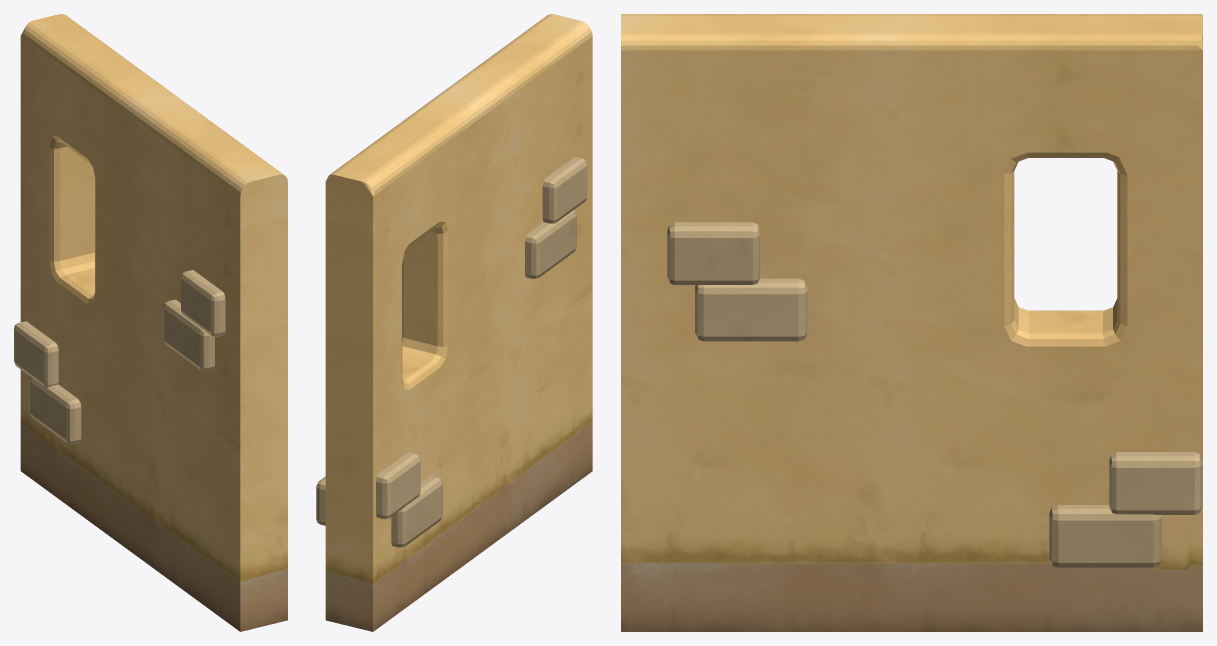
File: wall_one.fbx
3 renders of one model, left to right at view 1: azimuth 30°, elevation 25°; view 2: azimuth 150°, elevation 25°; view 3: azimuth 270°, elevation 25°, orthographic. The views are drawn at different scales.
Visible parts, largest first — view 1: Wall; view 2: Wall; view 3: Wall.
Part boxes in pixels (left/top/right/bottom): Wall: left=14, top=14, right=287, bottom=631; Wall: left=316, top=14, right=592, bottom=631; Wall: left=621, top=14, right=1202, bottom=631.
Bounding box in the file's own units: 37.67 × 225 × 200.
